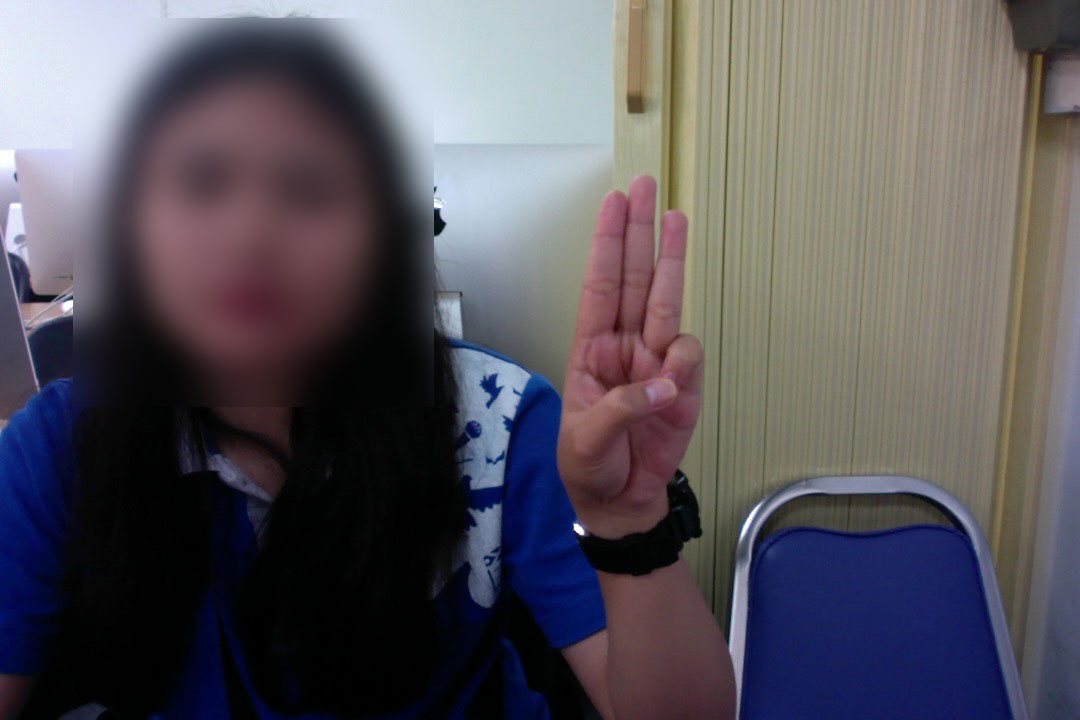wor: (549, 175, 716, 521)
